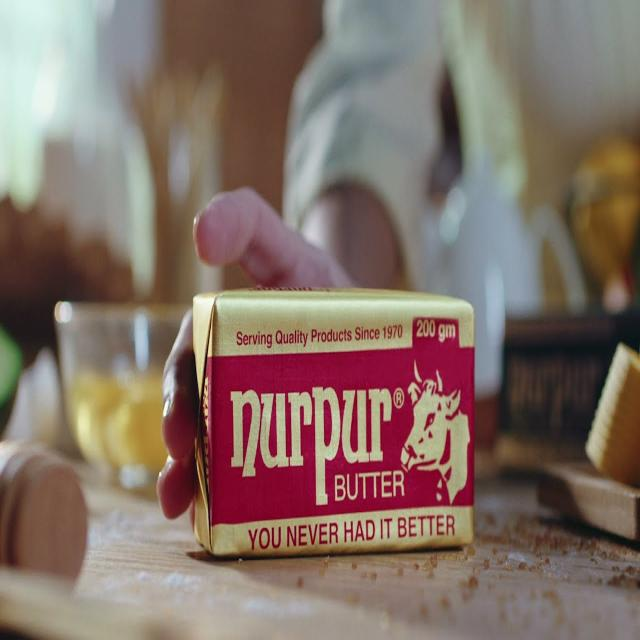butter: (192, 287, 476, 558)
